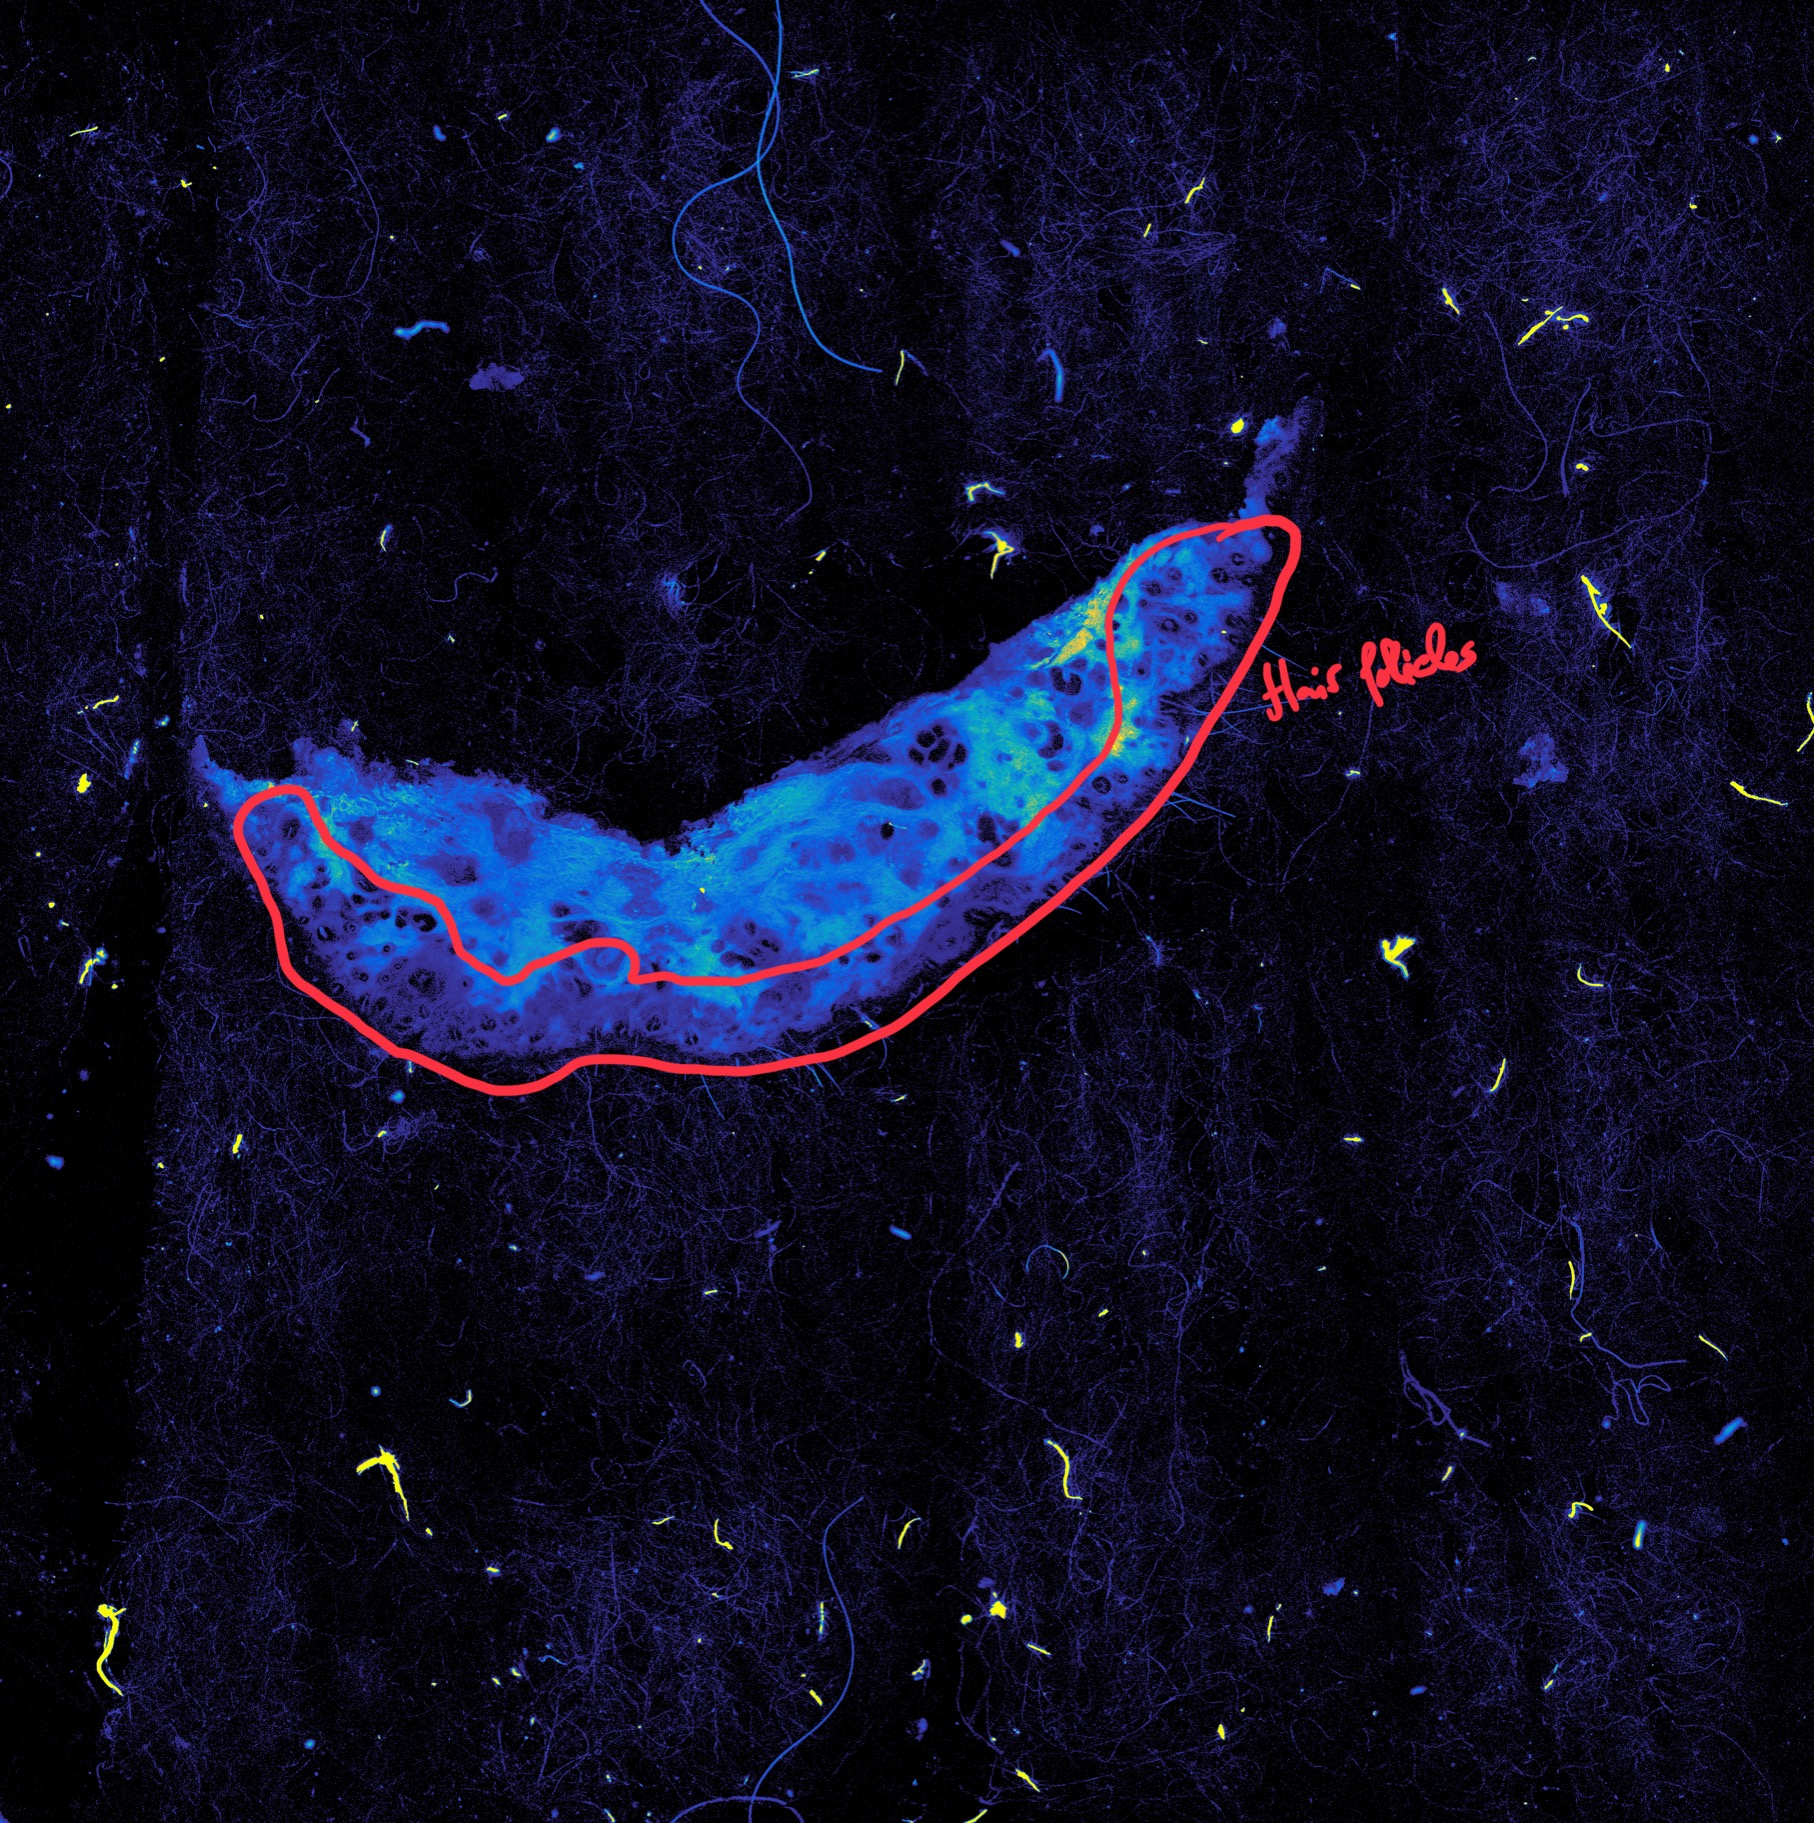HF: (394, 906, 435, 936), (410, 967, 440, 995), (346, 967, 375, 990), (1206, 567, 1231, 592), (681, 1029, 704, 1055), (281, 818, 302, 846), (1156, 615, 1179, 640), (1140, 577, 1163, 602), (316, 922, 337, 947), (1236, 567, 1258, 592), (641, 1012, 663, 1035), (1228, 548, 1249, 572), (1176, 605, 1198, 627), (478, 1019, 502, 1039), (1163, 565, 1186, 585), (1091, 776, 1111, 798), (1193, 648, 1213, 670), (341, 947, 362, 966), (374, 974, 395, 990), (1110, 771, 1131, 788), (379, 942, 399, 959), (1135, 766, 1159, 779), (346, 917, 360, 937)
